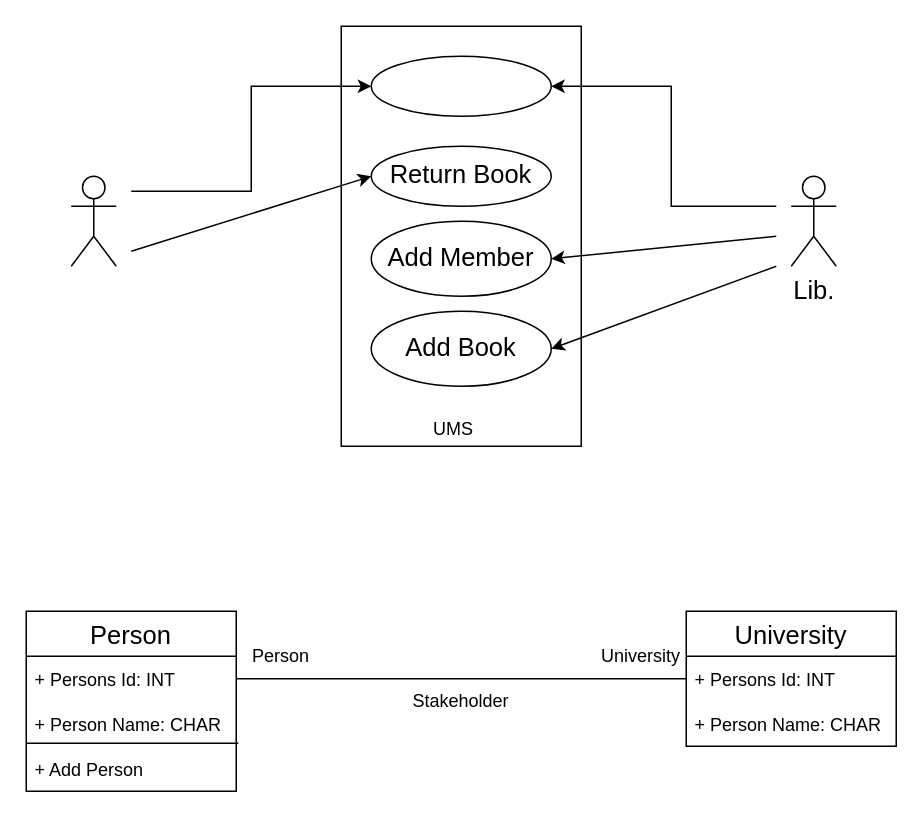
The diagram is 923 pixels wide and 818 high, and some of its shapes have lost their labels. The centre of each missing label's shape, as x and y in pixels:
"Login" belongs at (460,85).
"Student" belongs at (93,220).
